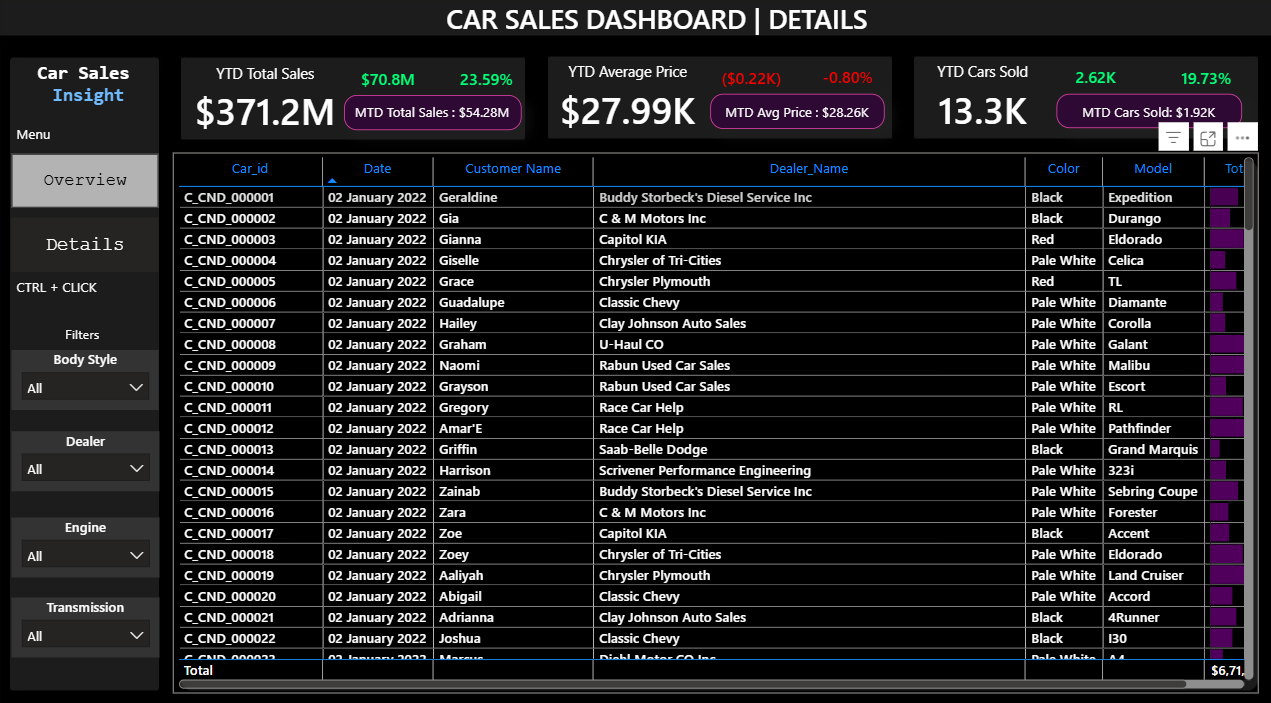

The page's visual inventory and layout, read from the dashboard file:
{"tool":"powerbi","page":{"name":"Details","canvas":[1280,720],"ordinal":1},"visuals":[{"type":"card","title":"YTD Total Sales","fields":{"Values":["car_data.YTD Total Sales"]},"box":[178.9,67.2,185,76.7],"z":0},{"type":"card","fields":{"Values":["car_data.Sales Difference"]},"box":[355,68.3,78.3,35],"z":1000},{"type":"card","fields":{"Values":["car_data.YoY Sales Growth"]},"box":[458.5,70.5,68,25],"z":2000},{"type":"card","fields":{"Values":["car_data.MTD KPI"]},"box":[350,100,177.3,35.3],"z":3000},{"type":"card","title":"YTD Average Price","fields":{"Values":["car_data.YTD Average Price"]},"box":[540.8,65.8,185,76.7],"z":4000},{"type":"card","fields":{"Values":["car_data.Average Price Diff"]},"box":[685,67,145,35],"z":5000},{"type":"card","fields":{"Values":["car_data.YoY Avg Price Growth"]},"box":[820,69,68,25],"z":6000},{"type":"card","fields":{"Values":["car_data.MTD Avg Price KPI"]},"box":[715.8,99.2,174.2,35],"z":7000},{"type":"card","title":"YTD Cars Sold","fields":{"Values":["car_data.YTD Cars Sold"]},"box":[895.8,65.8,185,76.7],"z":8000},{"type":"card","fields":{"Values":["car_data.Sales Difference"]},"box":[1400,67.5,77.5,35],"z":9000},{"type":"card","fields":{"Values":["car_data.Total Cars Sold Diff"]},"box":[1029,68,146,34],"z":10000},{"type":"card","fields":{"Values":["car_data.Total Cars Sold Diff"]},"box":[1970.8,81.7,145,35],"z":11000},{"type":"card","fields":{"Values":["car_data.YoY Cars Sold Growth"]},"box":[1160,68,105,35],"z":12000},{"type":"card","fields":{"Values":["car_data.MTD Cars Sold KPI"]},"box":[1062,99.3,185.3,34.7],"z":13000},{"type":"textbox","box":[440.5,0,446.6,50.3],"z":14000},{"type":"slicer","title":"Body Style","fields":{"Values":["car_data.Body Style"]},"box":[18,355.2,147.5,60],"z":15000},{"type":"slicer","title":"Transmission","fields":{"Values":["car_data.Transmission"]},"box":[17.5,602.5,148,60],"z":16000},{"type":"slicer","title":"Engine","fields":{"Values":["car_data.Engine"]},"box":[17.5,522.5,148,60],"z":17000},{"type":"slicer","title":"Dealer","fields":{"Values":["car_data.Dealer_Name"]},"box":[17.5,436.5,148,60],"z":18000},{"type":"textbox","box":[66.2,325,56.2,37.5],"z":19000},{"type":"tableEx","fields":{"Values":["car_data.Car_id","car_data.Date","car_data.Customer Name","car_data.Dealer_Name","car_data.Color","car_data.Model","car_data.Total Price"]},"box":[178.9,157.8,1085.6,541.1],"z":20000},{"type":"textbox","box":[17.8,125.6,55.6,36.7],"z":21000},{"type":"textbox","box":[5.6,62.2,178.9,55.6],"z":22000},{"type":"pageNavigator","box":[17.8,158.9,147.8,118.9],"z":23000},{"type":"textbox","box":[17.8,277.8,105.6,36.7],"z":24000}]}

Visuals, with their boxes in screenshot pixels (x1, y1, x2, y2), scaled from the page's 1280x720 canvas onto the 1271x703 screenshot:
"YTD Total Sales" card: locate(178, 66, 361, 141)
card - car_data.Sales Difference: locate(353, 67, 430, 101)
card - car_data.YoY Sales Growth: locate(455, 69, 523, 93)
card - car_data.MTD KPI: locate(348, 98, 524, 132)
"YTD Average Price" card: locate(537, 64, 721, 139)
card - car_data.Average Price Diff: locate(680, 65, 824, 100)
card - car_data.YoY Avg Price Growth: locate(814, 67, 882, 92)
card - car_data.MTD Avg Price KPI: locate(711, 97, 884, 131)
"YTD Cars Sold" card: locate(890, 64, 1073, 139)
card - car_data.Total Cars Sold Diff: locate(1022, 66, 1167, 100)
card - car_data.YoY Cars Sold Growth: locate(1152, 66, 1256, 101)
card - car_data.MTD Cars Sold KPI: locate(1055, 97, 1239, 131)
textbox: locate(437, 0, 881, 49)
"Body Style" slicer: locate(18, 347, 164, 405)
"Transmission" slicer: locate(17, 588, 164, 647)
"Engine" slicer: locate(17, 510, 164, 569)
"Dealer" slicer: locate(17, 426, 164, 485)
textbox: locate(66, 317, 122, 354)
tableEx - car_data.Car_id x car_data.Date: locate(178, 154, 1256, 682)
textbox: locate(18, 123, 73, 158)
textbox: locate(6, 61, 183, 115)
pageNavigator: locate(18, 155, 164, 271)
textbox: locate(18, 271, 123, 307)
